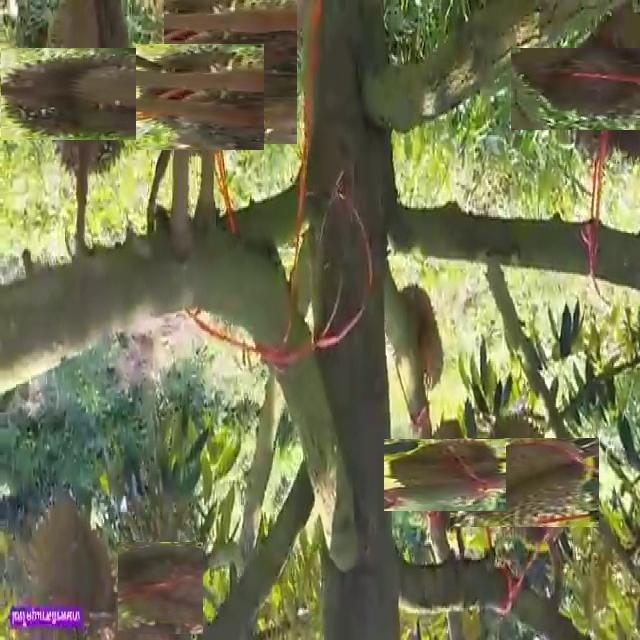durian: (161, 0, 302, 140), (19, 27, 153, 160), (20, 487, 118, 640), (464, 423, 584, 542), (141, 38, 259, 155), (534, 26, 640, 154), (102, 540, 200, 638), (396, 426, 493, 524), (384, 286, 446, 401)
